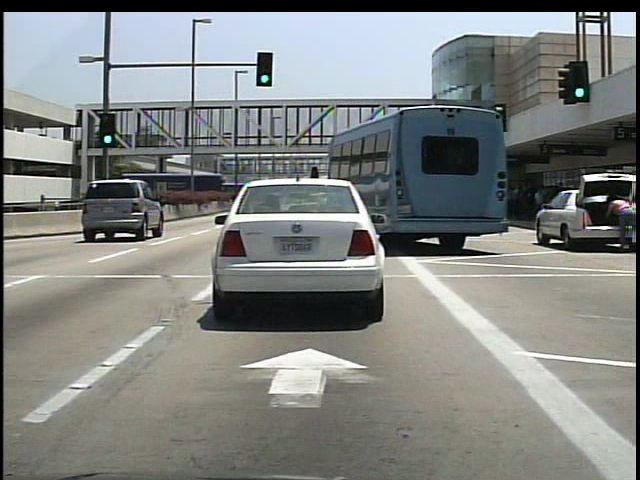person: (606, 191, 637, 254)
